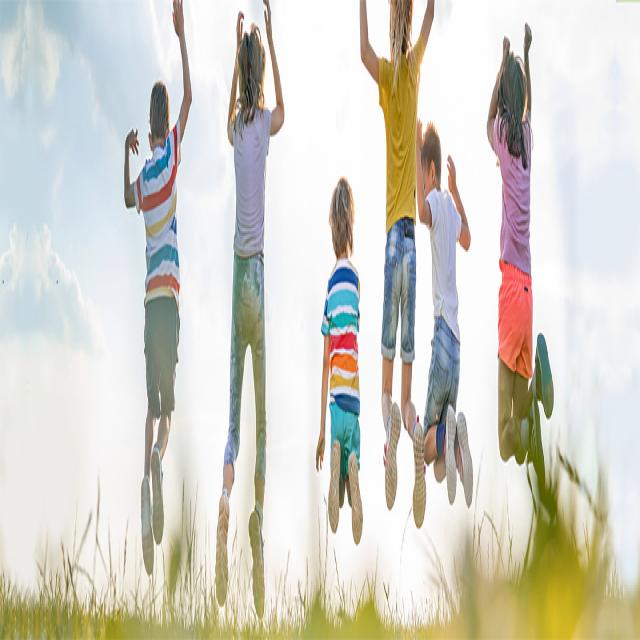child: (215, 2, 285, 618), (122, 0, 194, 576), (359, 0, 433, 535), (485, 20, 554, 488), (416, 112, 474, 506), (313, 168, 364, 550)
